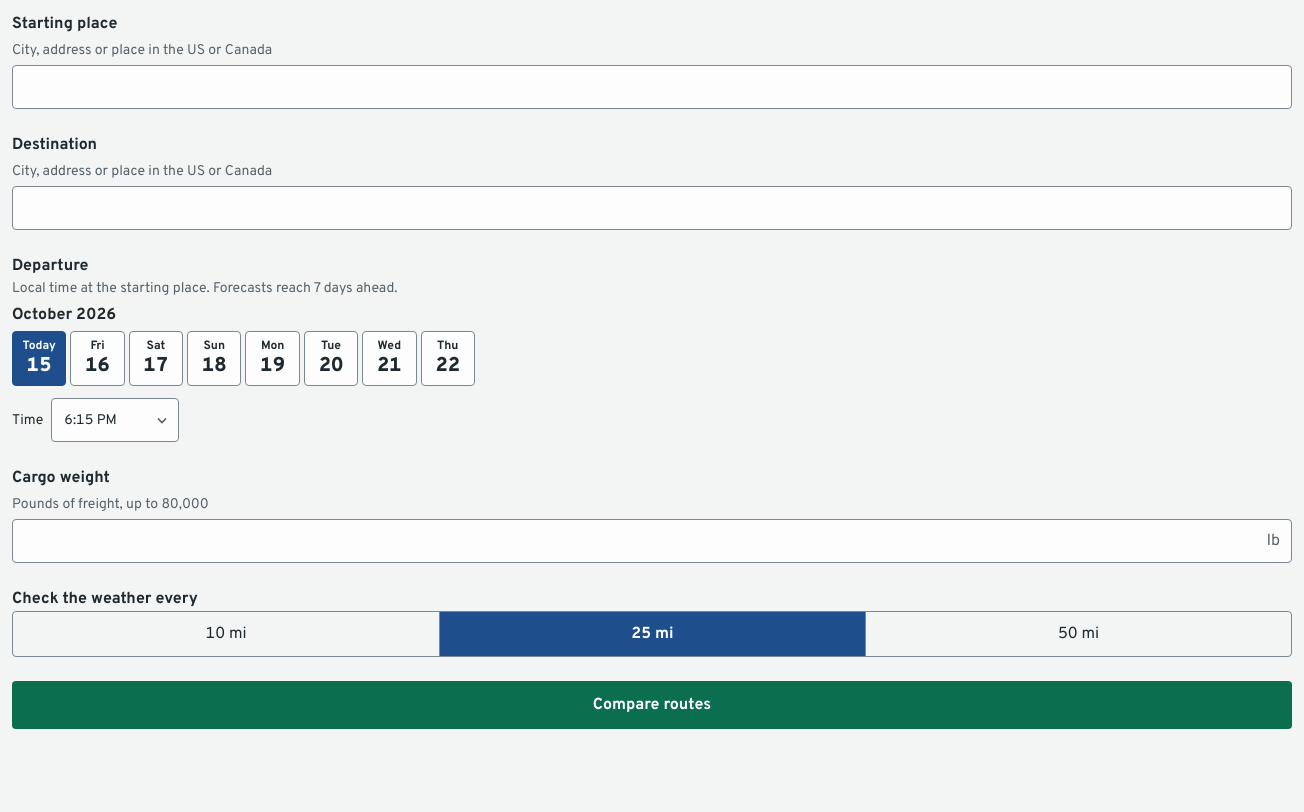
Test case: PlanForm › defaults the departure to the next quarter hour at the starting place
Type "Denver" into the field labelled "Starting place" at (652, 87), box [12, 65, 1292, 109]
Then press Enter
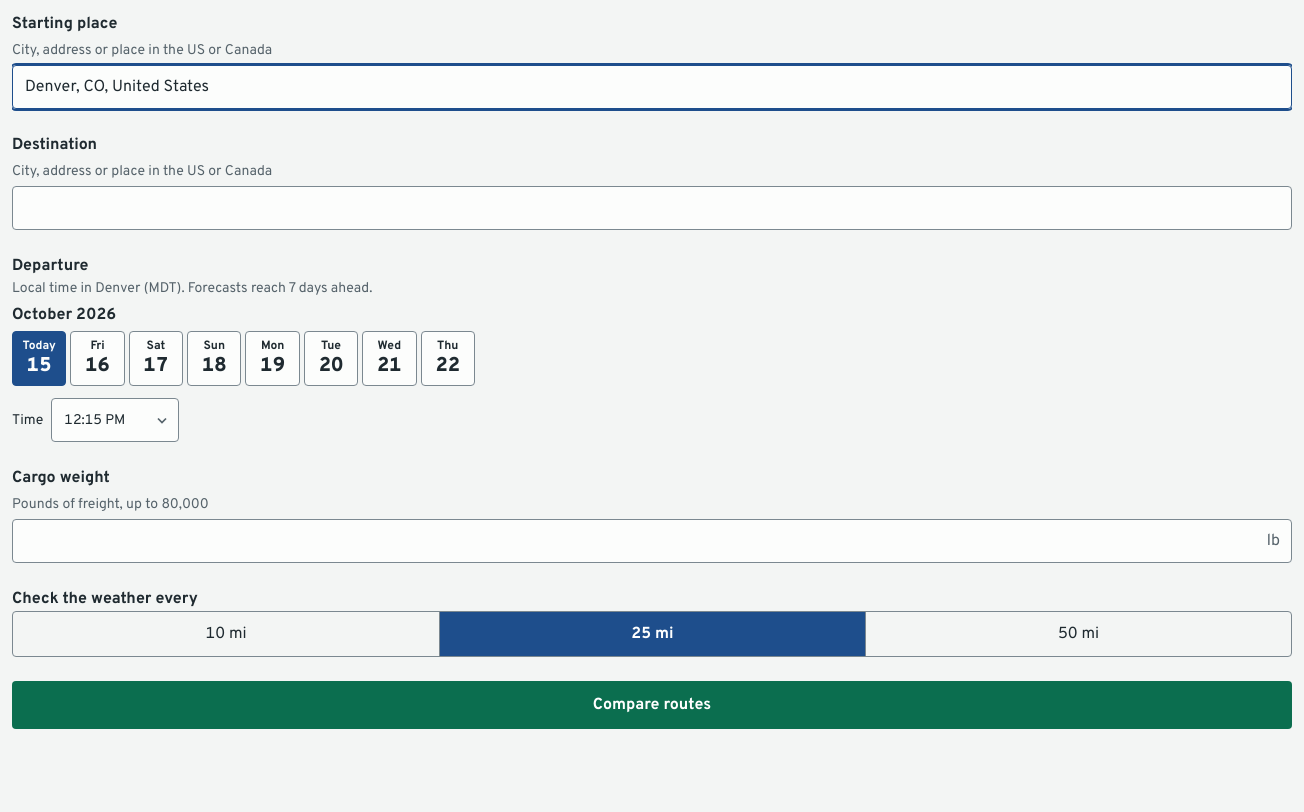
Check: the field showing "Denver, CO, United States" is shown, box [12, 65, 1292, 109]
Check: the dropdown labelled "Time" holds "12:15 PM", box [51, 398, 179, 442]
Check: the text "Local time in Denver (MDT). Forecasts reach 7 days ahead." is shown, box [12, 280, 372, 297]
